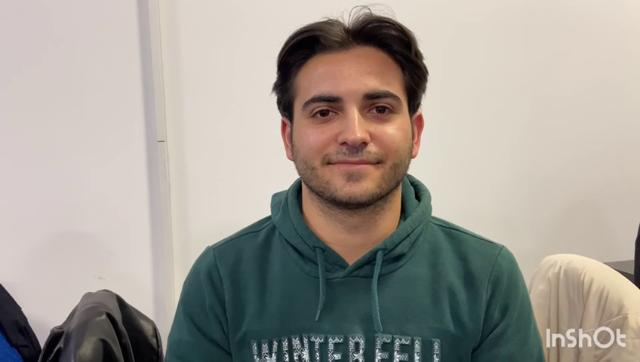senang: (284, 44, 426, 207), (282, 45, 416, 197)
